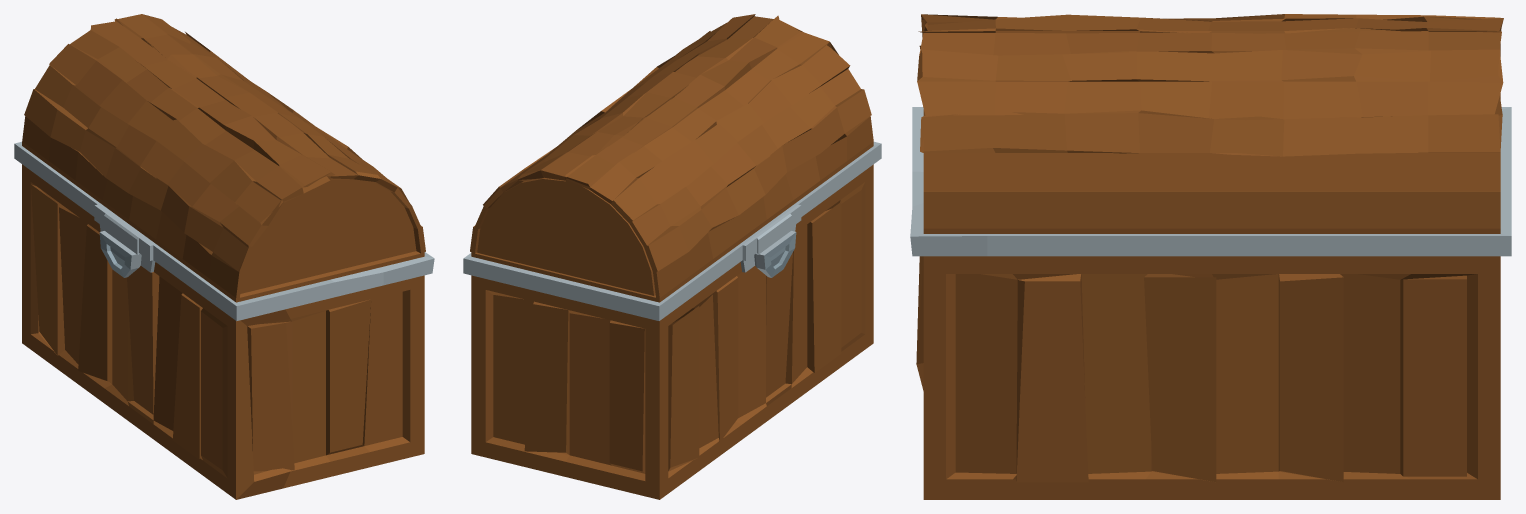
Rendered from chest.fbx.
3 views of the same model, side by side, from view 1: azimuth 30°, elevation 25°; view 2: azimuth 150°, elevation 25°; view 3: azimuth 270°, elevation 25° (orthographic). The views are drawn at different scales.
Visible parts, largest first — view 1: Cube; view 2: Cube; view 3: Cube.
Boxes of the visible parts, box(x1,y1,x2,y2) form: Cube: box(14, 14, 434, 499); Cube: box(463, 14, 881, 499); Cube: box(910, 14, 1511, 499).
Bounding box in the file's own units: 183 × 256 × 342.
